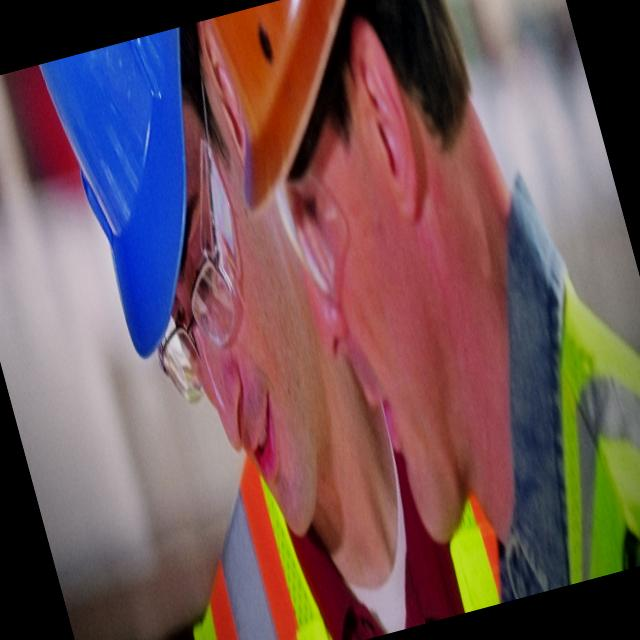goggles: (99, 122, 287, 420), (260, 150, 366, 302)
helmet: (37, 26, 260, 367), (198, 0, 408, 227)
vest: (142, 415, 432, 640), (482, 244, 640, 586)
